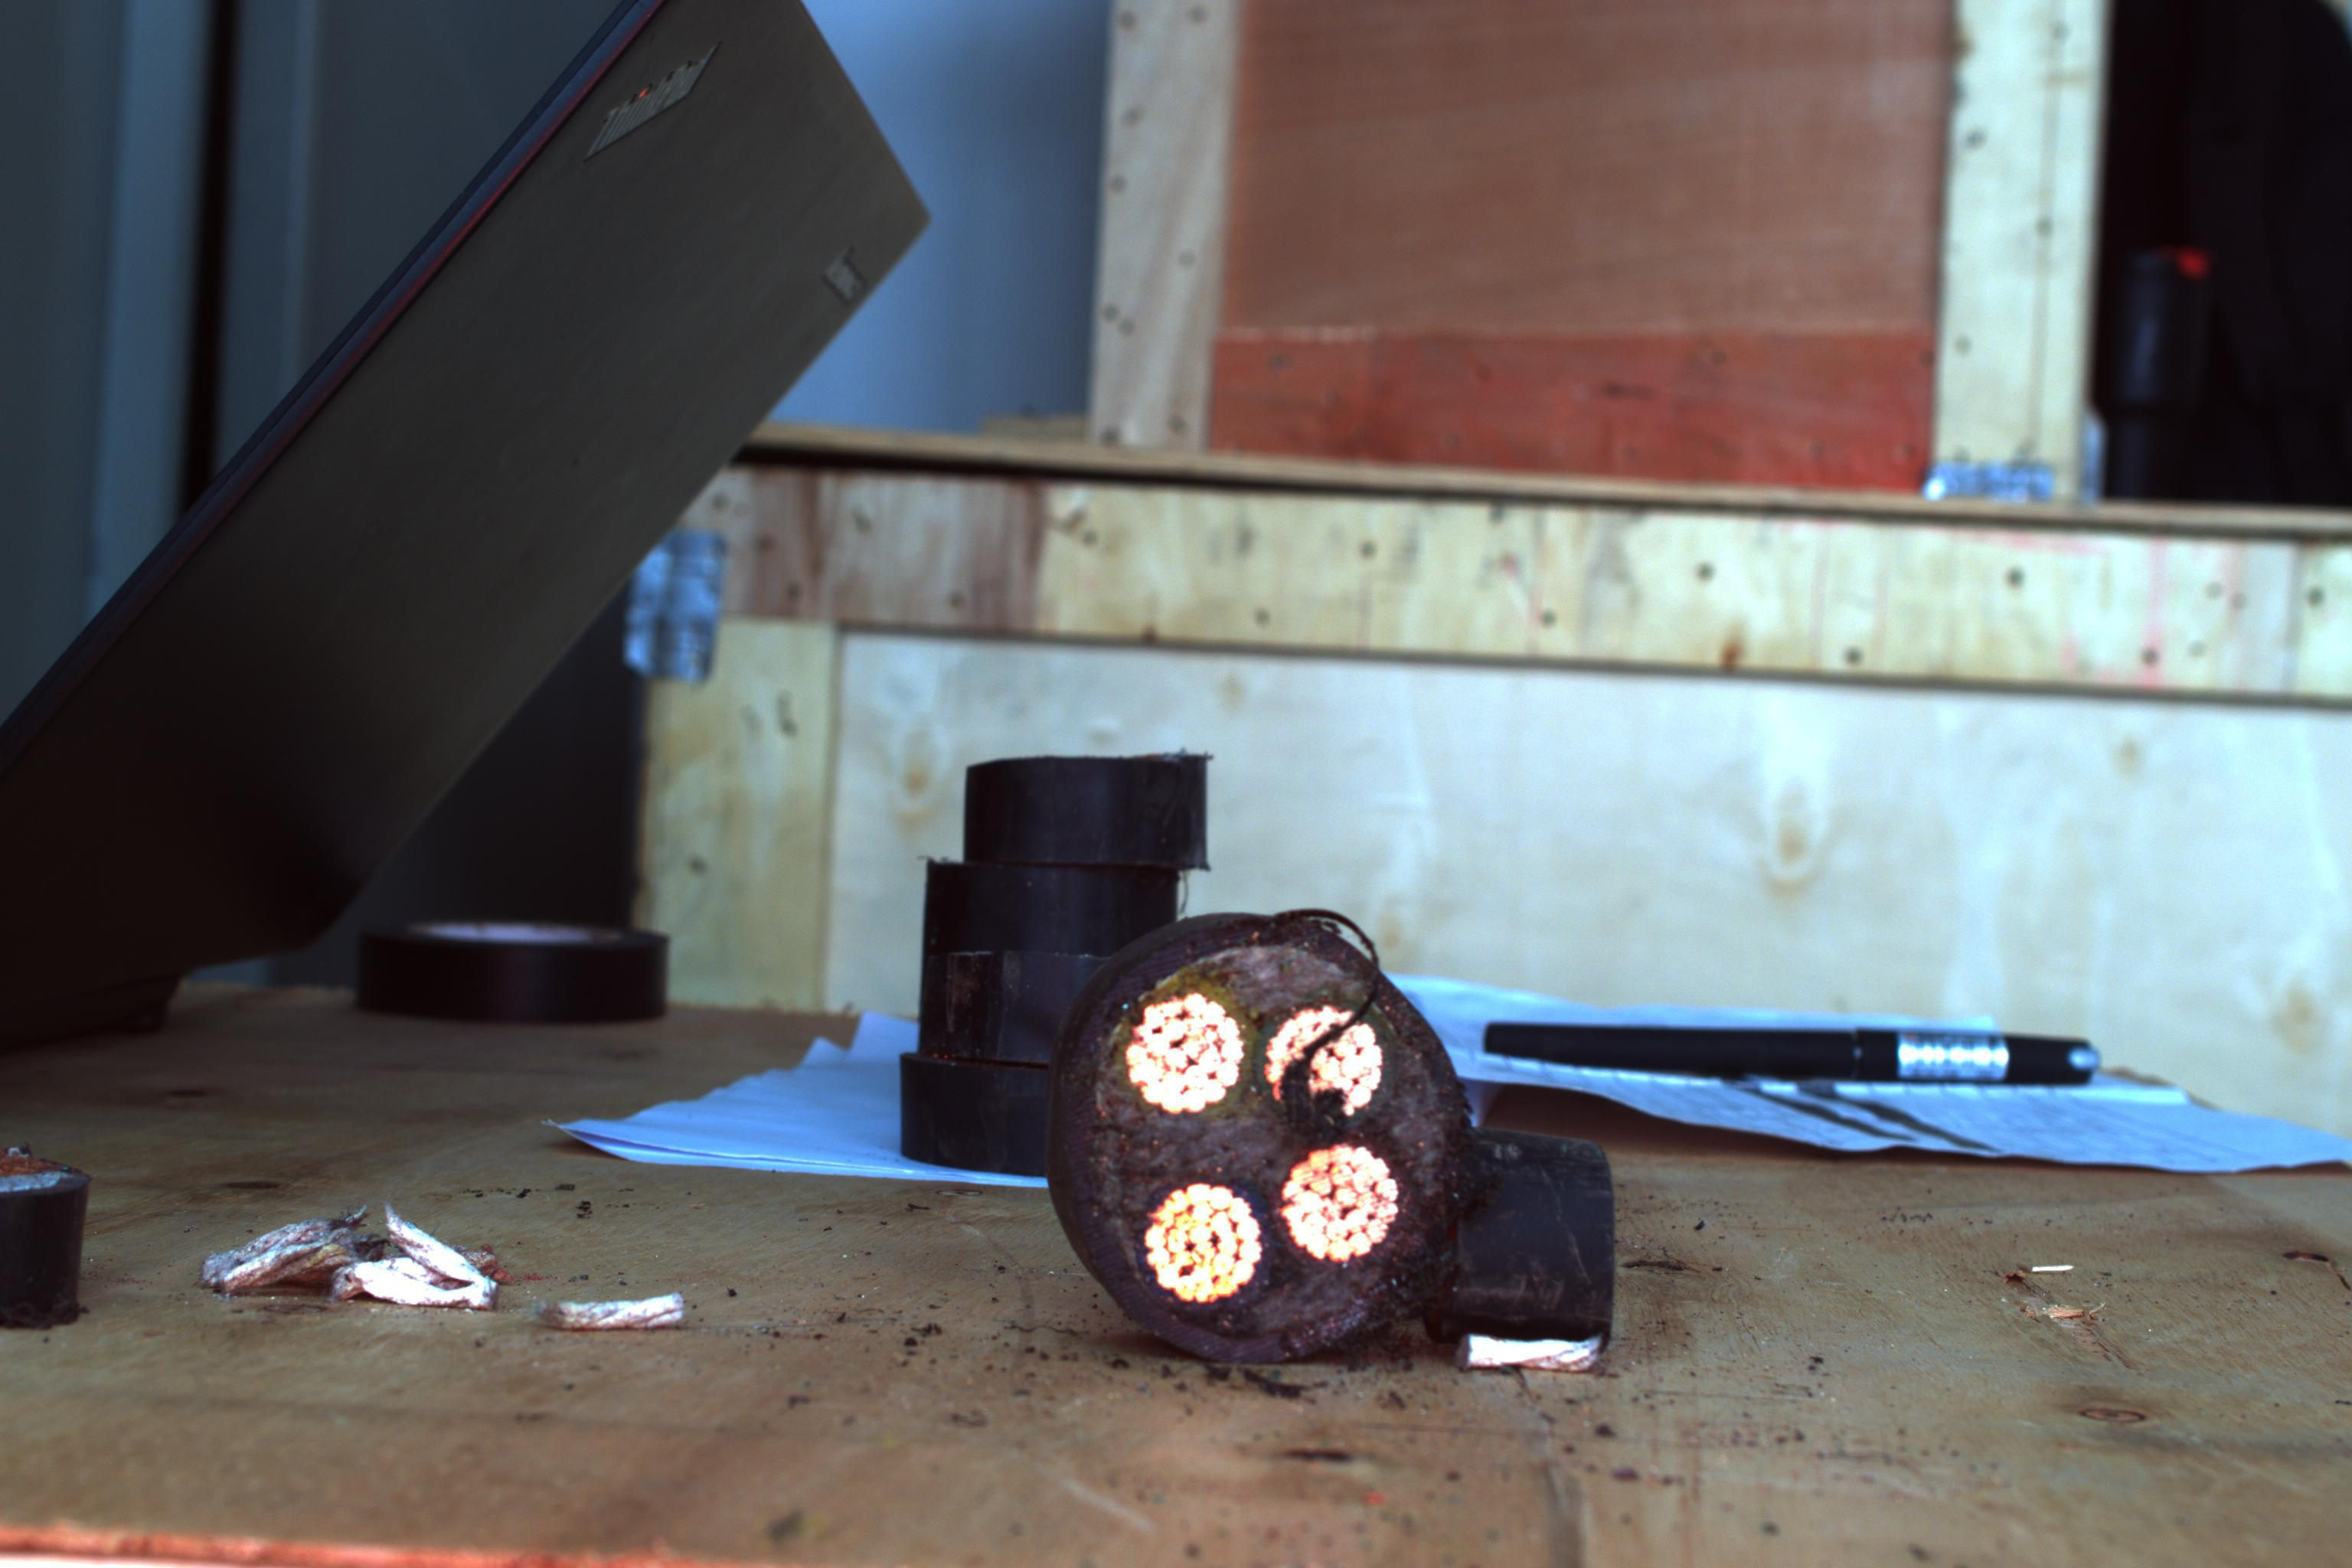YJV_0.6_1kV_4x120: (1057, 915, 1470, 1363)
